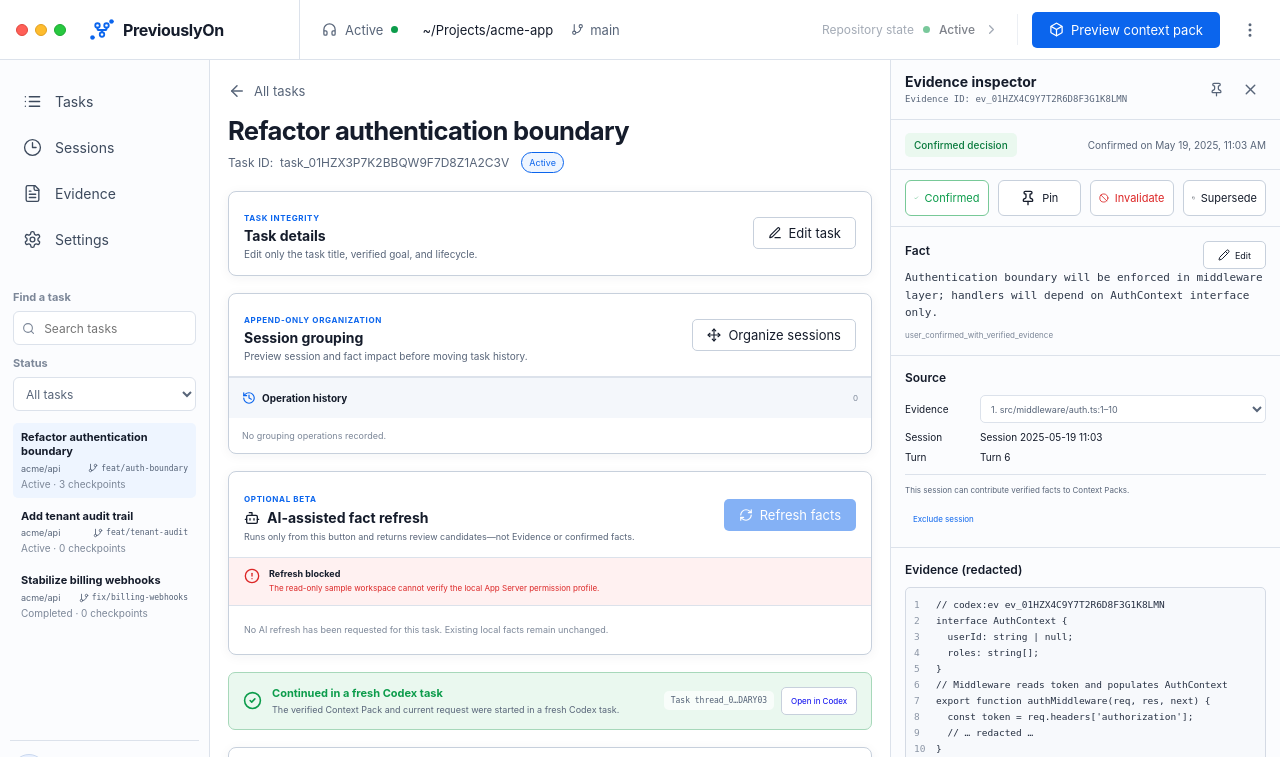
PreviouslyOn review workspace › defaults the relationship graph to the list fallback on narrow viewports
Click the button "Tasks" at (104, 101), box [10,80,199,122]
(page scrolled)
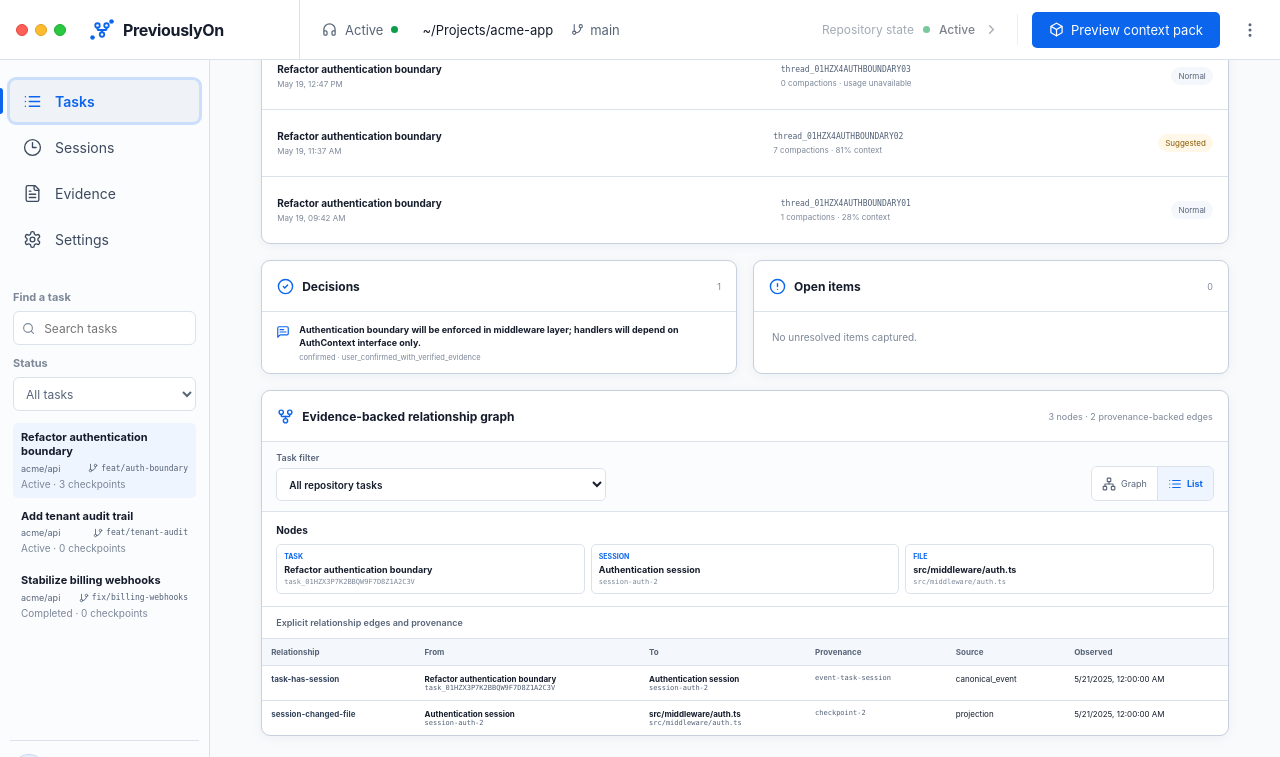
Check: the table "Explicit relationship edges and provenance" is shown, box [262,607,1228,735]
